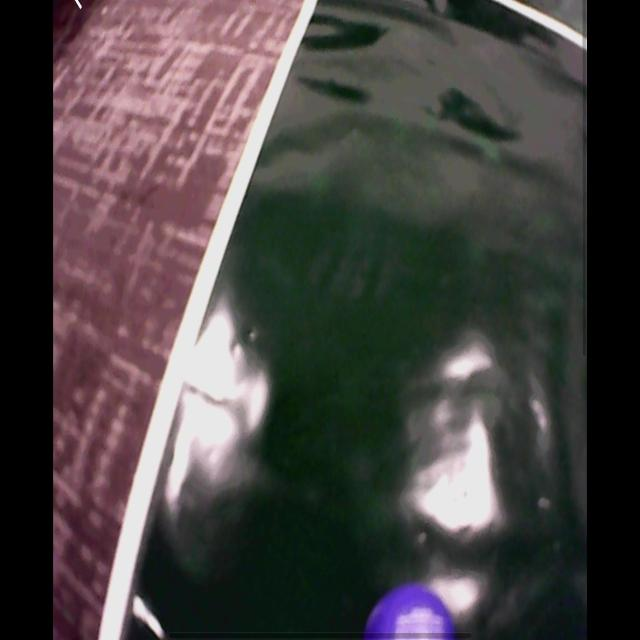ball: (365, 587, 460, 638)
